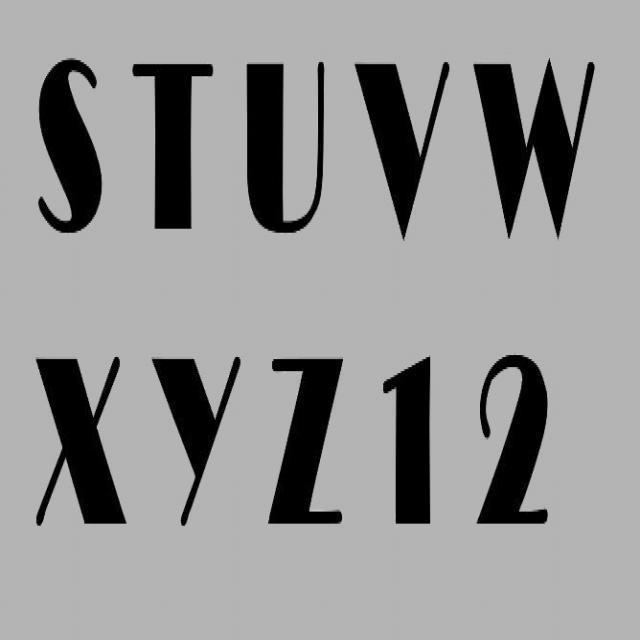1: (374, 322, 438, 566)
2: (472, 335, 556, 548)
W: (463, 50, 596, 242)
